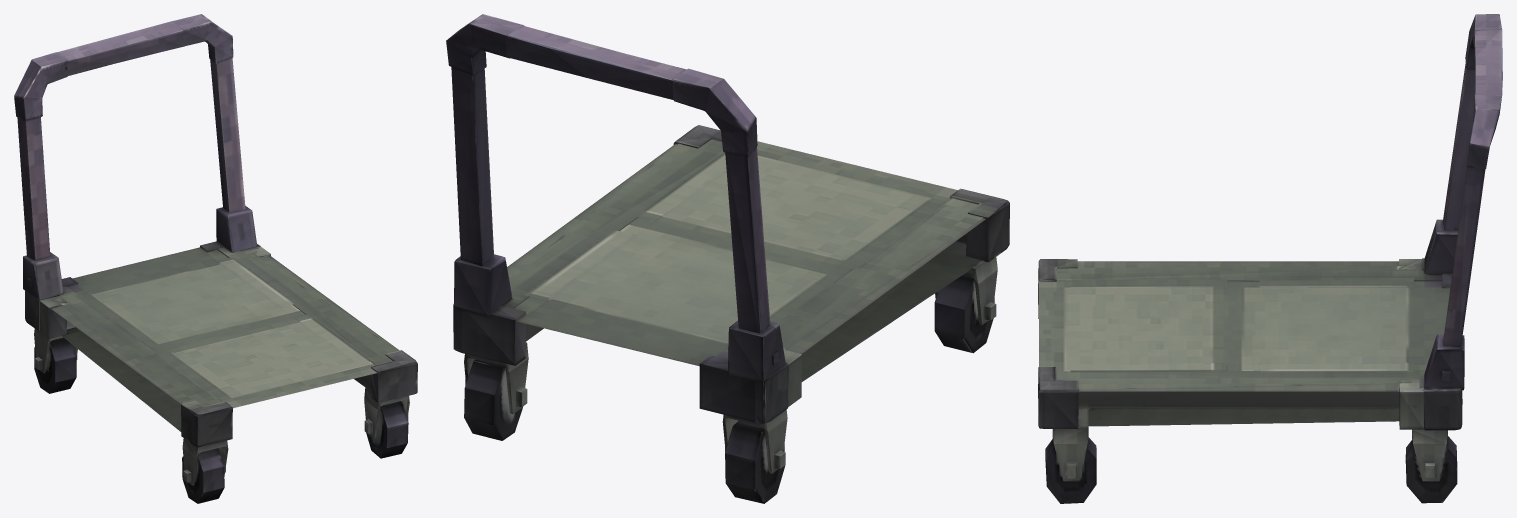
The model's file is PRP_HAND_CART.fbx.
The picture shows the model from 3 angles, left to right: view 1: azimuth 30°, elevation 25°; view 2: azimuth 150°, elevation 25°; view 3: azimuth 270°, elevation 25°; orthographic projection. The views are drawn at different scales.
Parts seen in each view (by area): view 1: PRP_HAND_CART_Body; view 2: PRP_HAND_CART_Body; view 3: PRP_HAND_CART_Body.
Part boxes in pixels (<box>): PRP_HAND_CART_Body: <box>14,14,417,503</box>; PRP_HAND_CART_Body: <box>446,14,1009,503</box>; PRP_HAND_CART_Body: <box>1038,14,1502,503</box>.
Bounding box in the file's own units: 74.82 × 99.91 × 110.
1 material, 1 textured.
